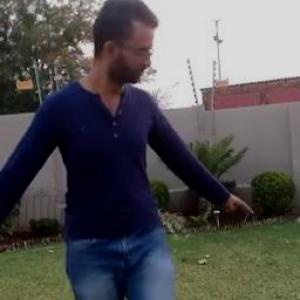land: (1, 1, 232, 299)
